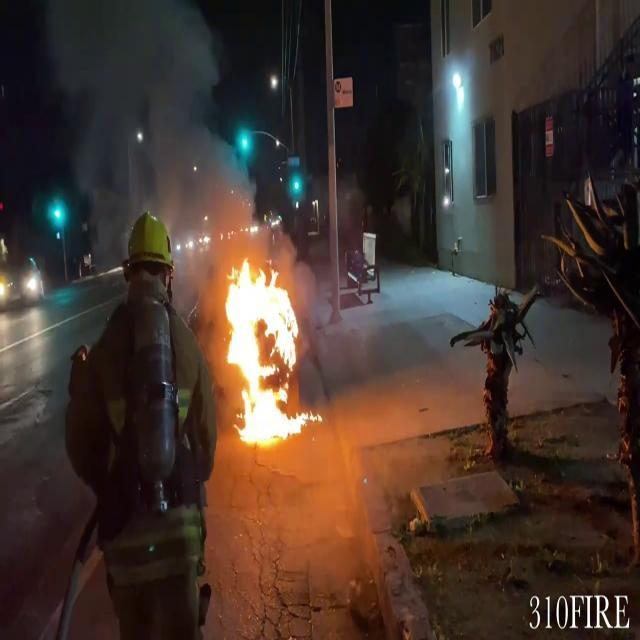Fire: (220, 250, 314, 448)
Smoke: (46, 0, 250, 260)
